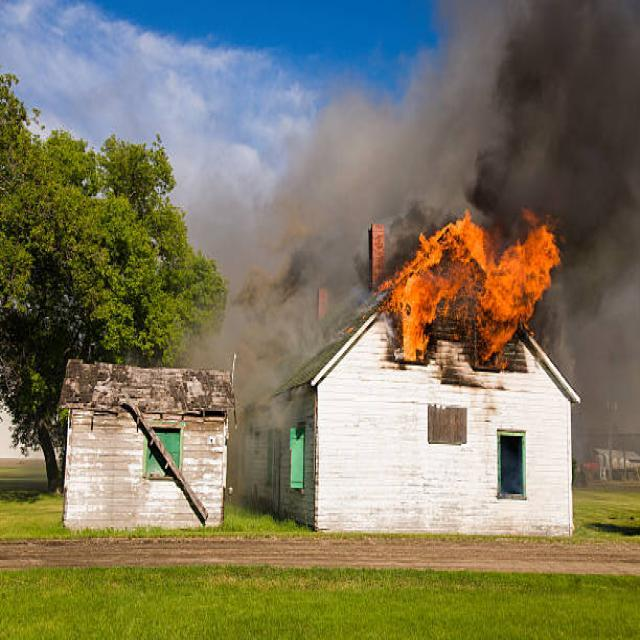Fire: (401, 211, 540, 341)
Smoke: (291, 52, 518, 272), (489, 0, 640, 325)
